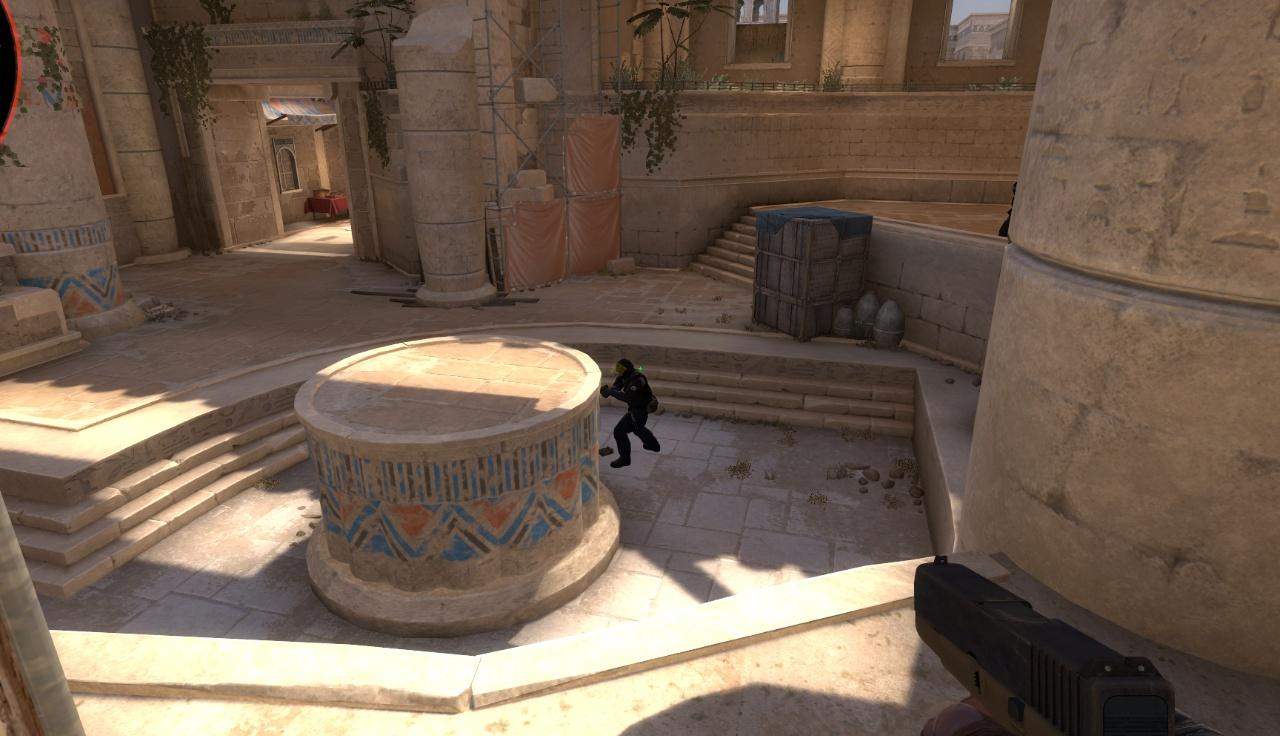ct: (600, 356, 660, 466)
cthead: (615, 359, 634, 380)
pistol: (912, 560, 1183, 733)
